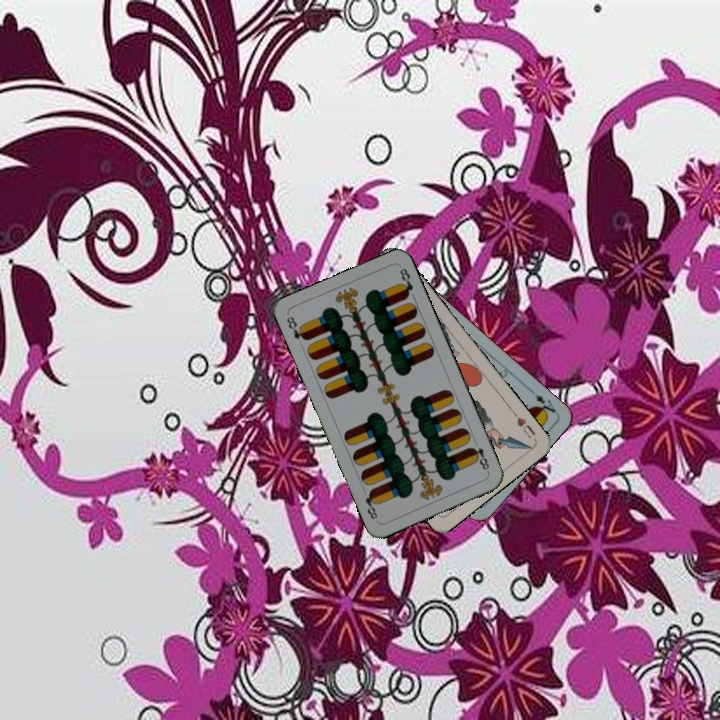E8: (467, 436, 492, 475), (282, 312, 310, 343)
EA: (526, 385, 559, 419)
HU: (509, 408, 538, 441)
